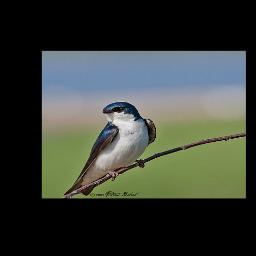Swallow: (63, 100, 157, 197)
